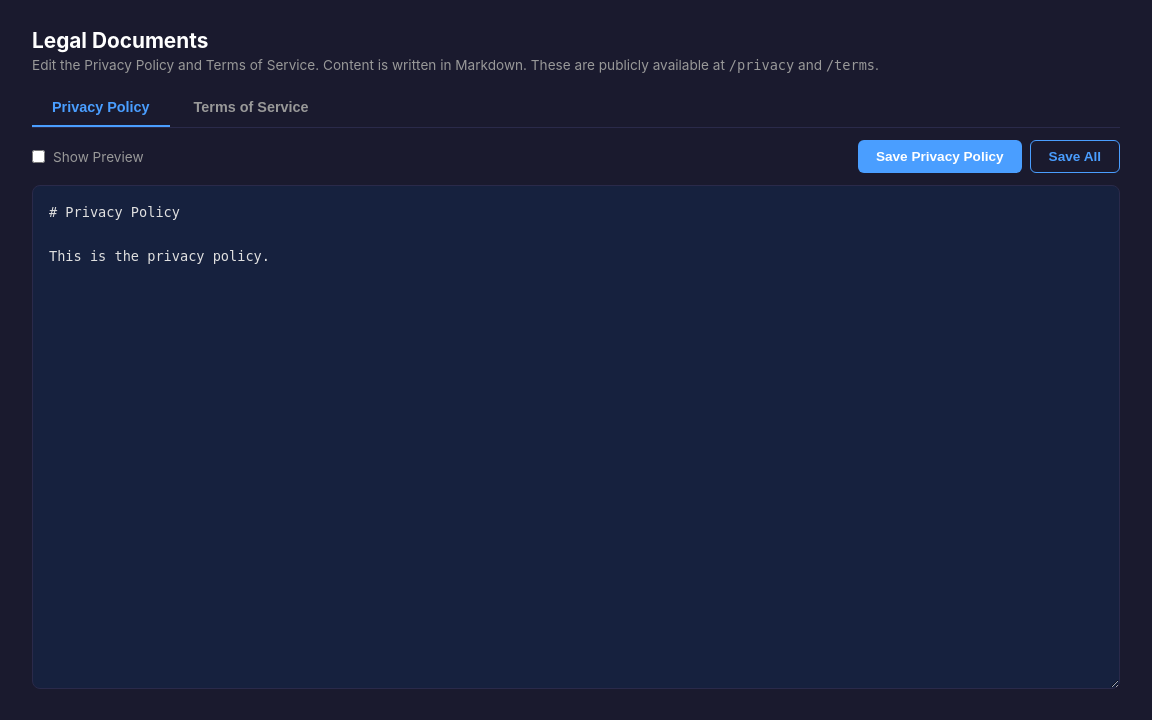
Test case: AdminLegalPage › shows success message 'All documents saved' after Save All
This screenshot has width=1152, height=720.
Click the button with test id "legal-save-all-btn". click: (1075, 156)
box: [1030,140,1120,173]
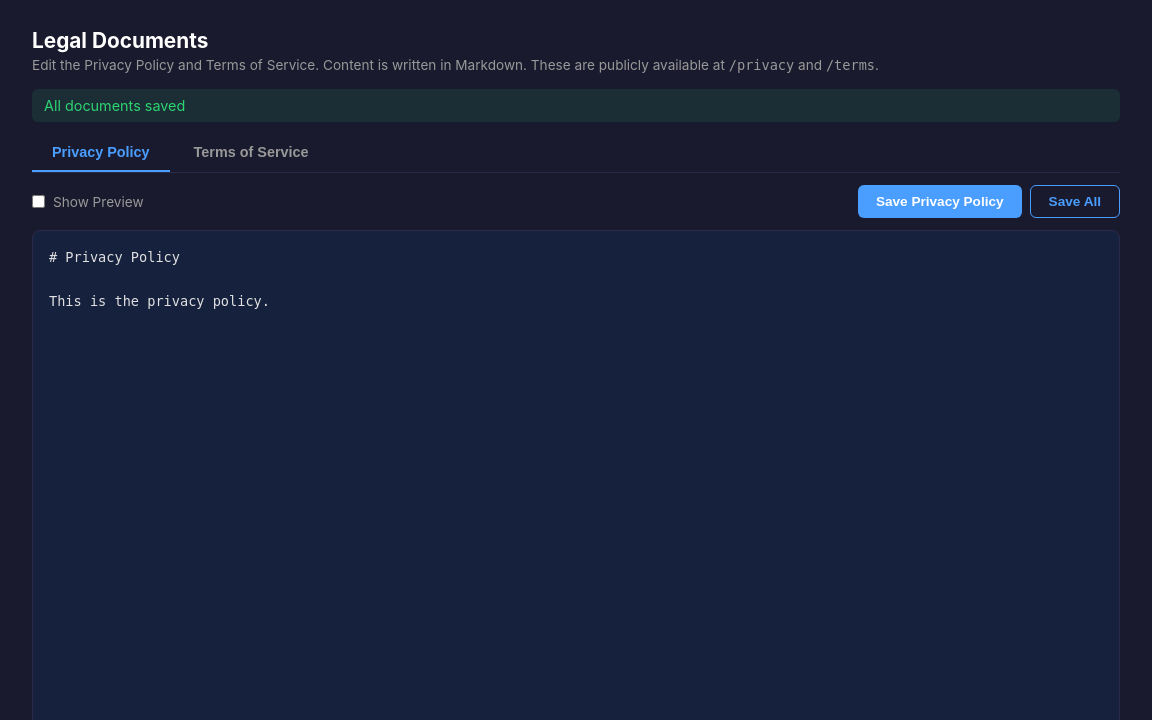
Expected: the text "All documents saved" is shown, [32,89,1120,122]
